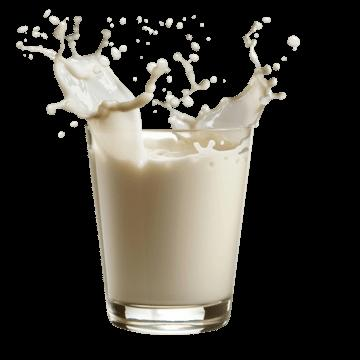produk_susu: (105, 124, 233, 322)
